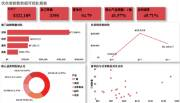

The dashboard page shown, as its layout file describes it:
{"tool":"powerbi","page":{"name":"基于多维度分析的零售业务全景可视化报告","canvas":[1280,720],"ordinal":0},"visuals":[{"type":"card","title":"GMV","fields":{"Values":["Sum(Sheet1.销售金额)"]},"box":[64.7,52.2,200,90],"z":0},{"type":"card","title":"总订单量","fields":{"Values":["Sum(Sheet1.订单数量)"]},"box":[289.7,52.2,200,90],"z":1000},{"type":"card","title":"客单价","fields":{"Values":["Sheet1.客单价 ￥"]},"box":[514.7,52.2,200,90],"z":2000},{"type":"card","title":"核心产品贡献：T恤","fields":{"Values":["Sheet1.核心产品贡献：T恤"]},"box":[739.7,52.2,200,90],"z":3000},{"type":"card","title":"总利润率","fields":{"Values":["Sheet1.总利润率"]},"box":[964.7,52.2,200,90],"z":4000},{"type":"clusteredBarChart","title":"各门店销售额对比","fields":{"Category":["Sheet1.门店所在城市"],"Y":["Sum(Sheet1.销售金额)"]},"box":[16,160,592,272],"z":5000},{"type":"donutChart","title":"核心品类销售额占比","fields":{"Category":["Sheet1.自定义"],"Y":["Sum(Sheet1.销售金额)"]},"box":[16,448,592,272],"z":6000},{"type":"lineChart","title":"日期销售额趋势","fields":{"Category":["Sheet1.订单日期.变体.日期层次结构.季度","Sheet1.订单日期.变体.日期层次结构.月份","Sheet1.订单日期.变体.日期层次结构.日"],"Y":["Sum(Sheet1.销售金额)"]},"box":[640,160,624,272],"z":7000},{"type":"scatterChart","title":"客单价与订单数量关系分析","fields":{"X":["Sheet1.客单价 ￥"],"Y":["Sheet1.订单数量"]},"box":[640,448,624,272],"z":8000},{"type":"textbox","box":[16,0,416,64],"z":9000}]}

Visuals, with their boxes in screenshot pixels (x1, y1, x2, y2), scaled from the page's 1280x720 canvas onto the 180x103 screenshot:
"GMV" card: left=9, top=7, right=37, bottom=20
"总订单量" card: left=41, top=7, right=69, bottom=20
"客单价" card: left=72, top=7, right=101, bottom=20
"核心产品贡献：T恤" card: left=104, top=7, right=132, bottom=20
"总利润率" card: left=136, top=7, right=164, bottom=20
"各门店销售额对比" clusteredBarChart: left=2, top=23, right=86, bottom=62
"核心品类销售额占比" donutChart: left=2, top=64, right=86, bottom=102
"日期销售额趋势" lineChart: left=90, top=23, right=178, bottom=62
"客单价与订单数量关系分析" scatterChart: left=90, top=64, right=178, bottom=102
textbox: left=2, top=0, right=61, bottom=9
